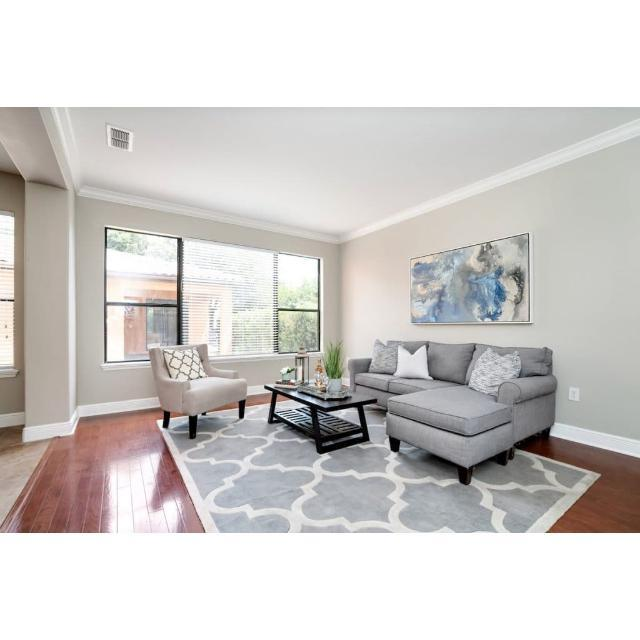pillow: (464, 345, 516, 399), (396, 344, 433, 379)
